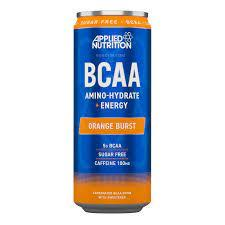metal: (74, 11, 150, 212)
